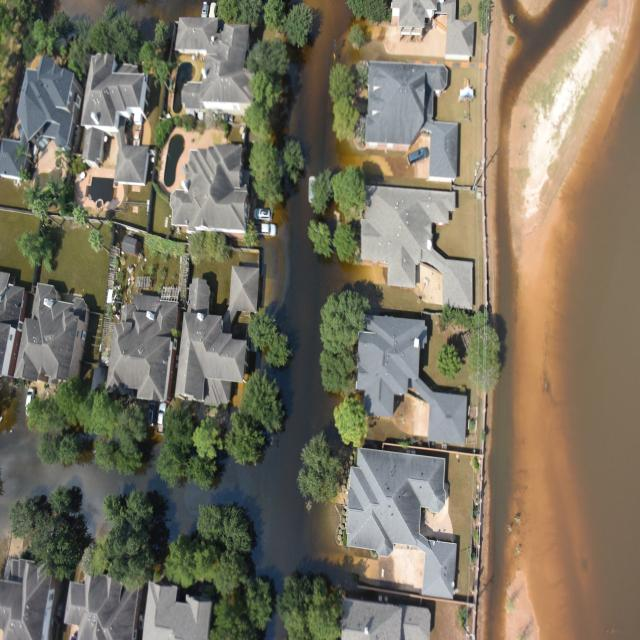fire: (478, 0, 640, 639), (168, 178, 373, 593), (0, 404, 159, 542), (290, 0, 350, 173), (59, 0, 203, 38)
